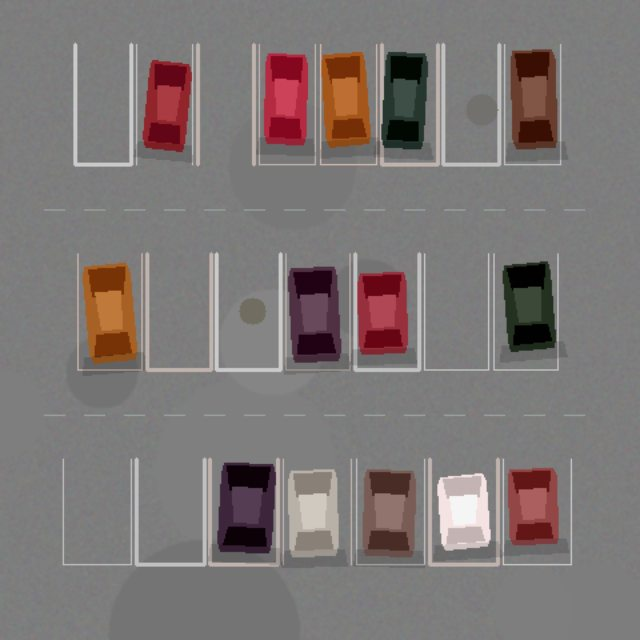space-empty: (147, 253, 211, 369), (216, 253, 280, 369), (424, 253, 488, 369), (63, 459, 131, 564), (136, 459, 204, 564), (75, 44, 131, 164), (197, 44, 253, 164), (443, 44, 499, 164)
space-occupied: (77, 253, 141, 369), (285, 253, 349, 369), (355, 253, 419, 369), (493, 253, 557, 369), (209, 459, 277, 564), (283, 459, 351, 564), (356, 459, 424, 564), (429, 459, 497, 564), (503, 459, 571, 564), (136, 44, 192, 164), (259, 44, 315, 164), (320, 44, 376, 164), (381, 44, 437, 164), (504, 44, 560, 164)
